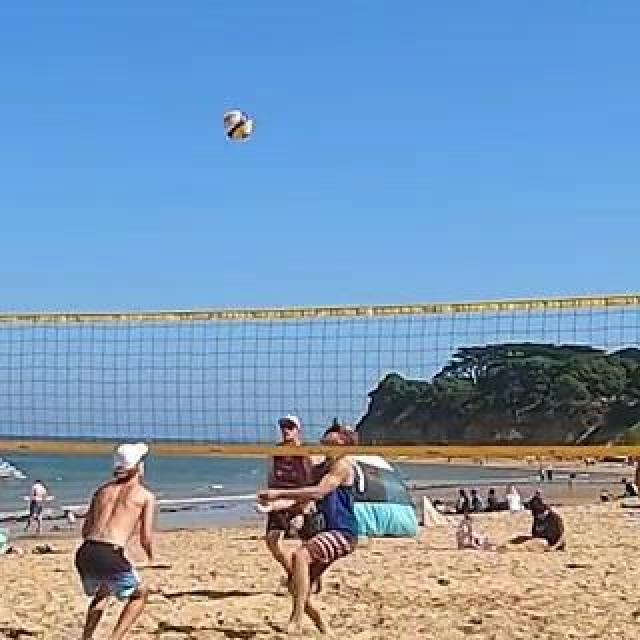volleyball: (223, 112, 251, 142)
